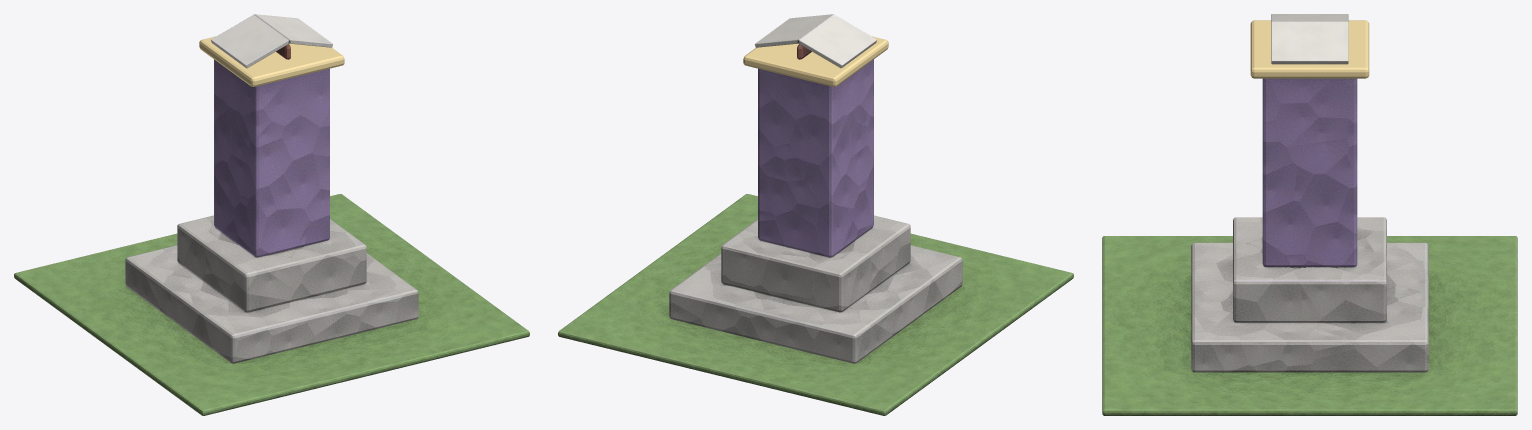
File: buch_fantasy.glb
3 views of the same model, side by side, from view 1: azimuth 30°, elevation 25°; view 2: azimuth 150°, elevation 25°; view 3: azimuth 270°, elevation 25° (orthographic). The views are drawn at different scales.
Visible parts, largest first — view 1: buch_fantasy, buch_fantasy_details; view 2: buch_fantasy, buch_fantasy_details; view 3: buch_fantasy, buch_fantasy_details.
Part boxes in pixels (x1,y1,x2,y2): buch_fantasy: (14,14,529,415); buch_fantasy_details: (199,36,344,86); buch_fantasy: (558,14,1073,415); buch_fantasy_details: (743,36,888,86); buch_fantasy: (1102,14,1517,415); buch_fantasy_details: (1250,20,1369,78).
Size of the model in its own units: 0.7 by 0.5729 by 0.7.
Materials: 2 (1 with a texture image).
